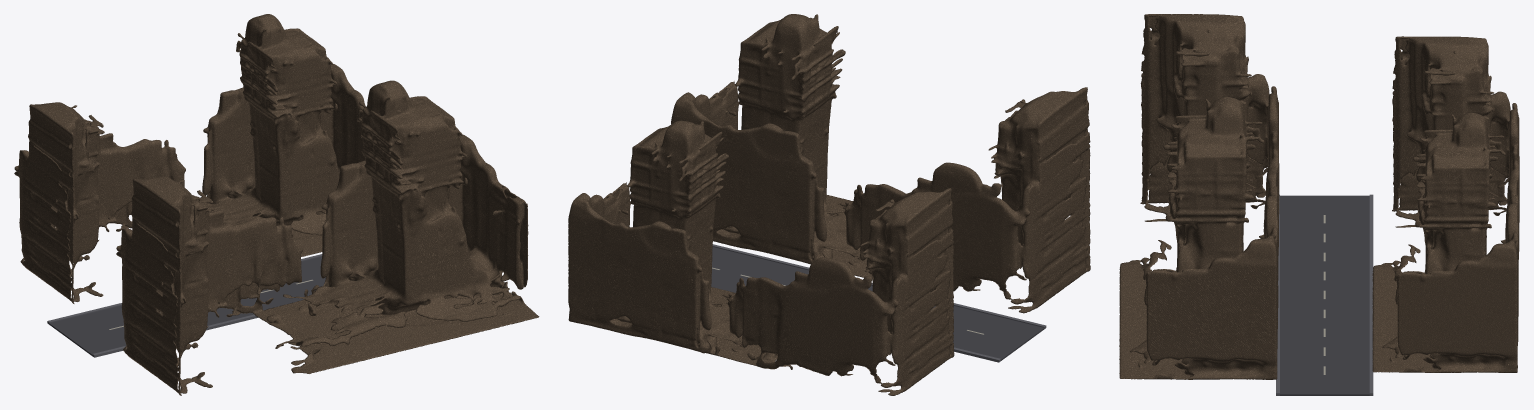
File: ruins-combine.glb
The picture shows the model from 3 angles, left to right: view 1: azimuth 30°, elevation 25°; view 2: azimuth 150°, elevation 25°; view 3: azimuth 270°, elevation 25°; orthographic projection. The views are drawn at different scales.
Parts seen in each view (by area): view 1: Ruins_Building_A, Ruins_Building_B, Ruins_Street; view 2: Ruins_Building_B, Ruins_Building_A, Ruins_Street, Ruins_Curb_S; view 3: Ruins_Building_A, Ruins_Building_B, Ruins_Street, Ruins_Curb_N, Ruins_Curb_S.
Part boxes in pixels (x1,y1,x2,y2): Ruins_Building_A: (116, 80, 539, 395); Ruins_Building_B: (14, 14, 365, 303); Ruins_Street: (49, 257, 325, 356); Ruins_Building_B: (568, 120, 954, 395); Ruins_Building_A: (671, 14, 1090, 313); Ruins_Street: (711, 247, 1044, 360); Ruins_Curb_S: (712, 244, 1046, 328); Ruins_Building_A: (1119, 14, 1279, 379); Ruins_Building_B: (1372, 36, 1519, 372); Ruins_Street: (1280, 195, 1369, 395); Ruins_Curb_N: (1369, 194, 1373, 395); Ruins_Curb_S: (1276, 194, 1279, 395).
Size of what is drawn, in the model's own units: 84 by 46.21 by 71.4.
Materials: 13 (1 with a texture image).
